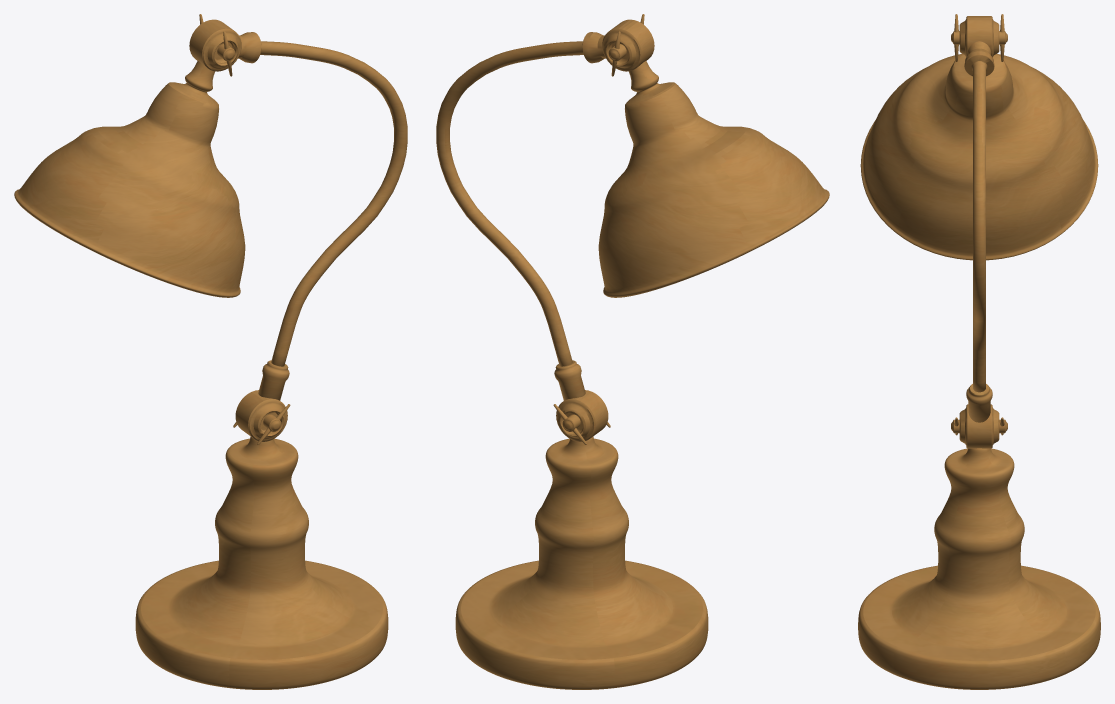
3 views of the same model, side by side, from view 1: azimuth 30°, elevation 25°; view 2: azimuth 150°, elevation 25°; view 3: azimuth 270°, elevation 25° (orthographic). The views are drawn at different scales.
Parts seen in each view (by area): view 1: Cylinder; view 2: Cylinder; view 3: Cylinder.
Boxes of the visible parts, box(x1,y1,x2,y2) form: Cylinder: box(14, 14, 407, 689); Cylinder: box(436, 14, 829, 689); Cylinder: box(858, 14, 1100, 689).
Size of the model in its own units: 2.98 by 4.78 by 1.74.
1 material, 1 textured.
